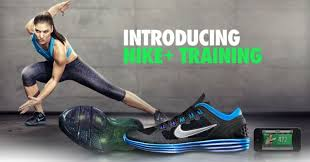nike: (172, 121, 220, 141)
